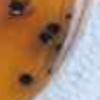black: (6, 0, 25, 18), (45, 20, 62, 36), (19, 70, 34, 85), (38, 31, 53, 45), (62, 13, 75, 23)
